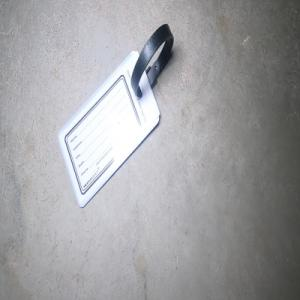LuggageTag: (56, 22, 175, 209)
